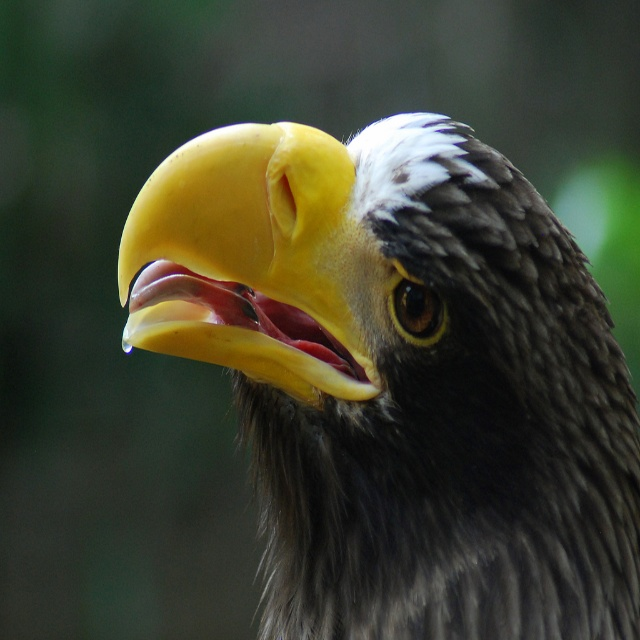Eagle: (118, 113, 640, 640)
